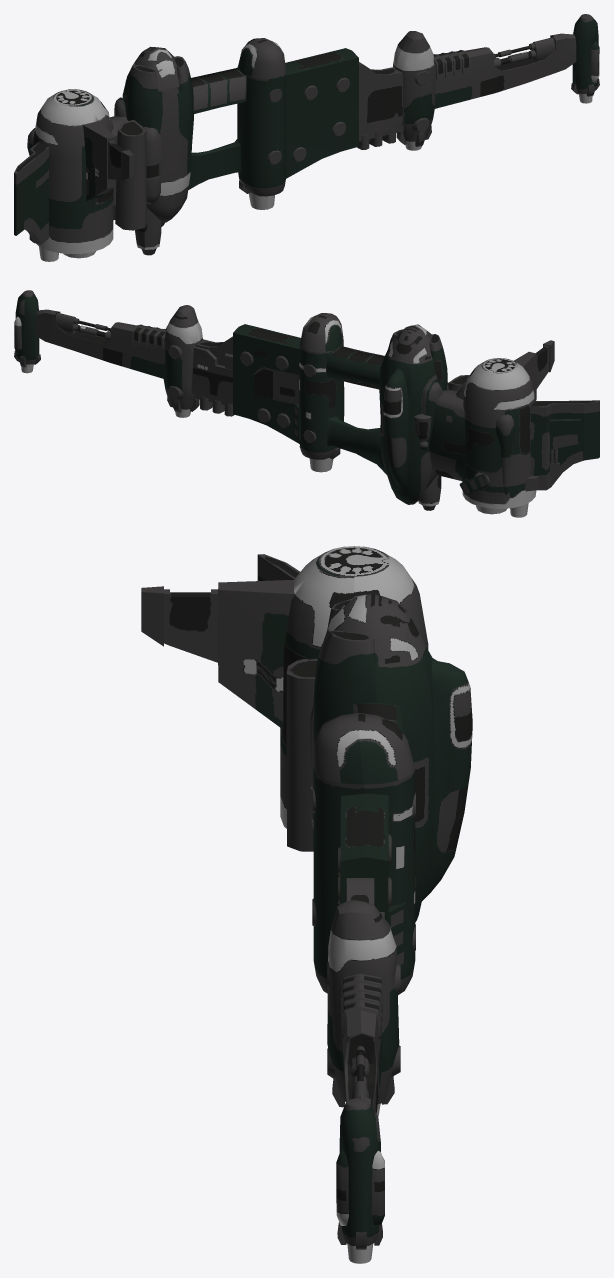
File: catalyst.glb
The picture shows the model from 3 angles, top to bottom: view 1: azimuth 30°, elevation 25°; view 2: azimuth 150°, elevation 25°; view 3: azimuth 270°, elevation 25°; orthographic projection. The views are drawn at different scales.
Parts seen in each view (by area): view 1: Catalyst; view 2: Catalyst; view 3: Catalyst.
Part boxes in pixels (x1,y1,x2,y2): Catalyst: [14, 14, 599, 261]; Catalyst: [14, 290, 599, 517]; Catalyst: [141, 546, 472, 1263].
Size of the model in its own units: 284 by 88.6 by 72.97.
Materials: 1 (1 with a texture image).
